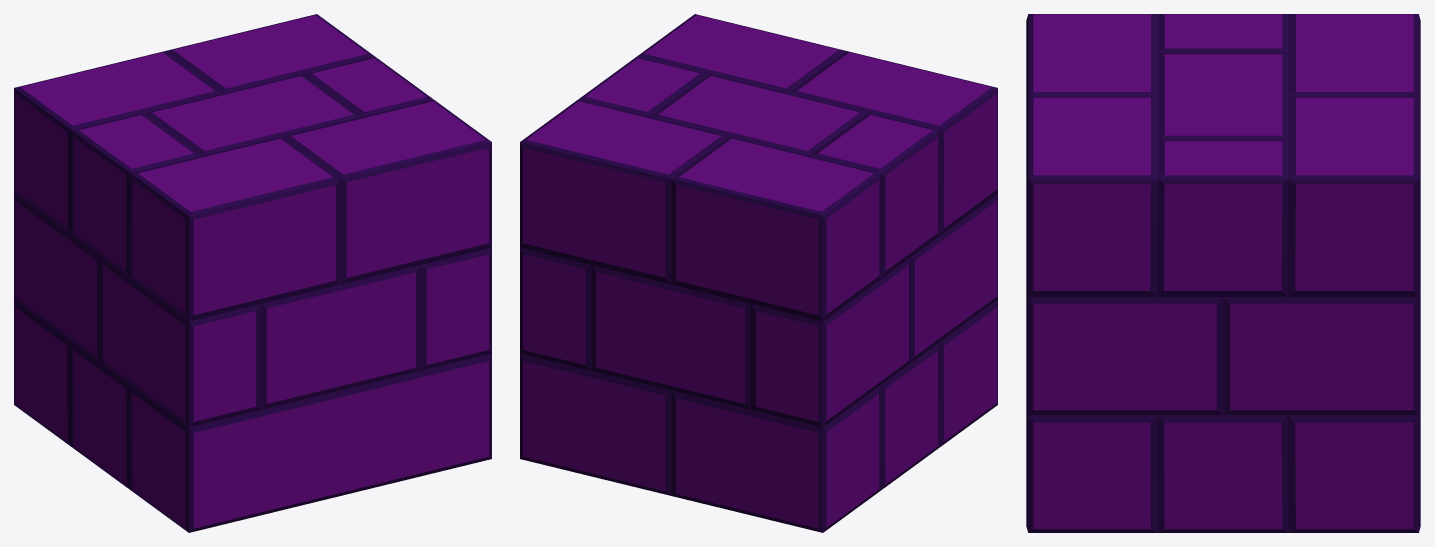
File: BrickBlock.FBX
3 views of the same model, side by side, from view 1: azimuth 30°, elevation 25°; view 2: azimuth 150°, elevation 25°; view 3: azimuth 270°, elevation 25° (orthographic). The views are drawn at different scales.
Visible parts, largest first — view 1: Box018; view 2: Box018; view 3: Box018.
Boxes of the visible parts, bbox=[...] form: Box018: bbox=[14, 14, 491, 532]; Box018: bbox=[520, 14, 997, 532]; Box018: bbox=[1026, 14, 1420, 532].
Size of the model in its own units: 102 by 102 by 102.
